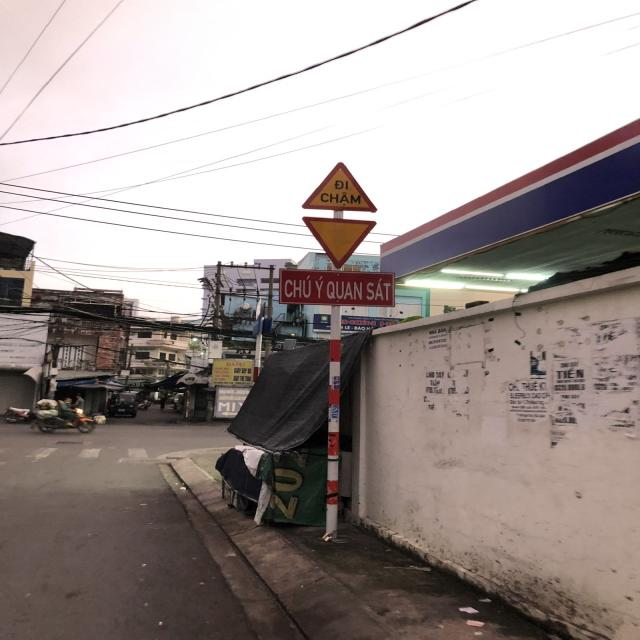Bien bao di cham: (302, 159, 385, 217)
Bien bao giao nhau voi duong uu tien: (299, 213, 386, 272)
